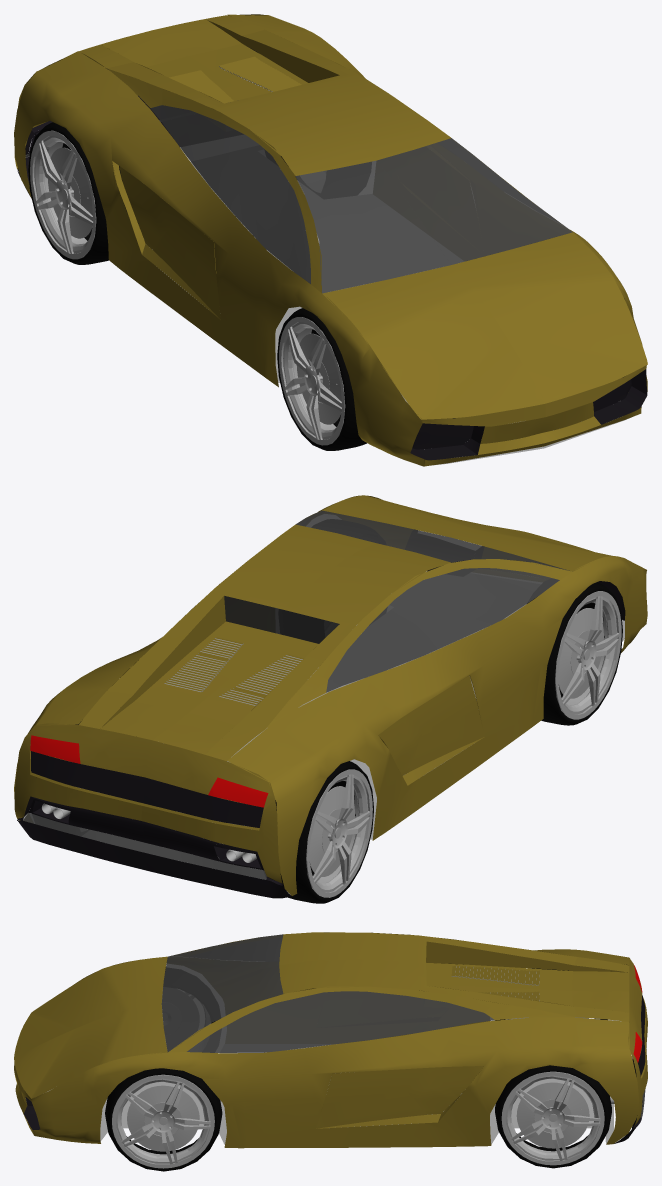
Rendered from 兰博基尼1.0.fbx.
The picture shows the model from 3 angles, top to bottom: view 1: azimuth 30°, elevation 25°; view 2: azimuth 150°, elevation 25°; view 3: azimuth 270°, elevation 25°; orthographic projection. The views are drawn at different scales.
Visible parts, largest first — view 1: nurbsToPoly12, nurbsToPoly25, nurbsToPoly74, nurbsToPoly94, nurbsToPoly36, nurbsToPoly22, nurbsToPoly37, nurbsToPoly93, pCylinder65, pCylinder67, nurbsToPoly21, nurbsToPoly63 (+15 smaller); view 2: nurbsToPoly12, nurbsToPoly22, nurbsToPoly37, nurbsToPoly93, nurbsToPoly33, nurbsToPoly91, pCylinder65, pCylinder67, nurbsToPoly21, nurbsToPoly95, nurbsToPoly39, nurbsToPoly41 (+26 smaller); view 3: nurbsToPoly63, nurbsToPoly71, nurbsToPoly74, pCylinder69, pCylinder68, nurbsToPoly72, nurbsToPoly25, nurbsToPoly93, nurbsToPoly37, nurbsToPoly36, nurbsToPoly94, nurbsToPoly97 (+14 smaller).
Part boxes in pixels (box(x1,y1,x2,y2)): nurbsToPoly12: box(14, 51, 545, 466); nurbsToPoly25: box(322, 265, 545, 419); nurbsToPoly74: box(451, 232, 647, 403); nurbsToPoly94: box(376, 138, 572, 264); nurbsToPoly36: box(295, 160, 450, 293); nurbsToPoly22: box(150, 105, 310, 283); nurbsToPoly37: box(107, 62, 375, 175); nurbsToPoly93: box(242, 30, 450, 160); pCylinder65: box(30, 130, 96, 259); pCylinder67: box(279, 317, 345, 445); nurbsToPoly21: box(119, 166, 220, 319); nurbsToPoly63: box(227, 14, 647, 445); nurbsToPoly12: box(227, 556, 647, 895); nurbsToPoly22: box(326, 568, 559, 692); nurbsToPoly37: box(241, 543, 450, 729); nurbsToPoly93: box(107, 524, 375, 694); nurbsToPoly33: box(141, 740, 282, 883); nurbsToPoly91: box(14, 723, 152, 820); pCylinder65: box(306, 769, 372, 897); pCylinder67: box(555, 591, 621, 719); nurbsToPoly21: box(378, 675, 484, 775); nurbsToPoly95: box(135, 621, 283, 712); nurbsToPoly39: box(265, 559, 572, 729); nurbsToPoly41: box(189, 635, 318, 725); nurbsToPoly63: box(14, 1017, 639, 1148); nurbsToPoly71: box(187, 991, 494, 1052); nurbsToPoly74: box(14, 1004, 167, 1098); pCylinder69: box(501, 1071, 604, 1165); pCylinder68: box(112, 1074, 214, 1168); nurbsToPoly72: box(316, 1066, 483, 1128); nurbsToPoly25: box(14, 956, 167, 1058); nurbsToPoly93: box(279, 959, 576, 1017); nurbsToPoly37: box(279, 932, 576, 965); nurbsToPoly36: box(161, 934, 283, 1003); nurbsToPoly94: box(161, 965, 283, 1052); nurbsToPoly97: box(168, 986, 575, 1052).
Bounding box in the file's own units: 11.1 × 7.74 × 27.22.
